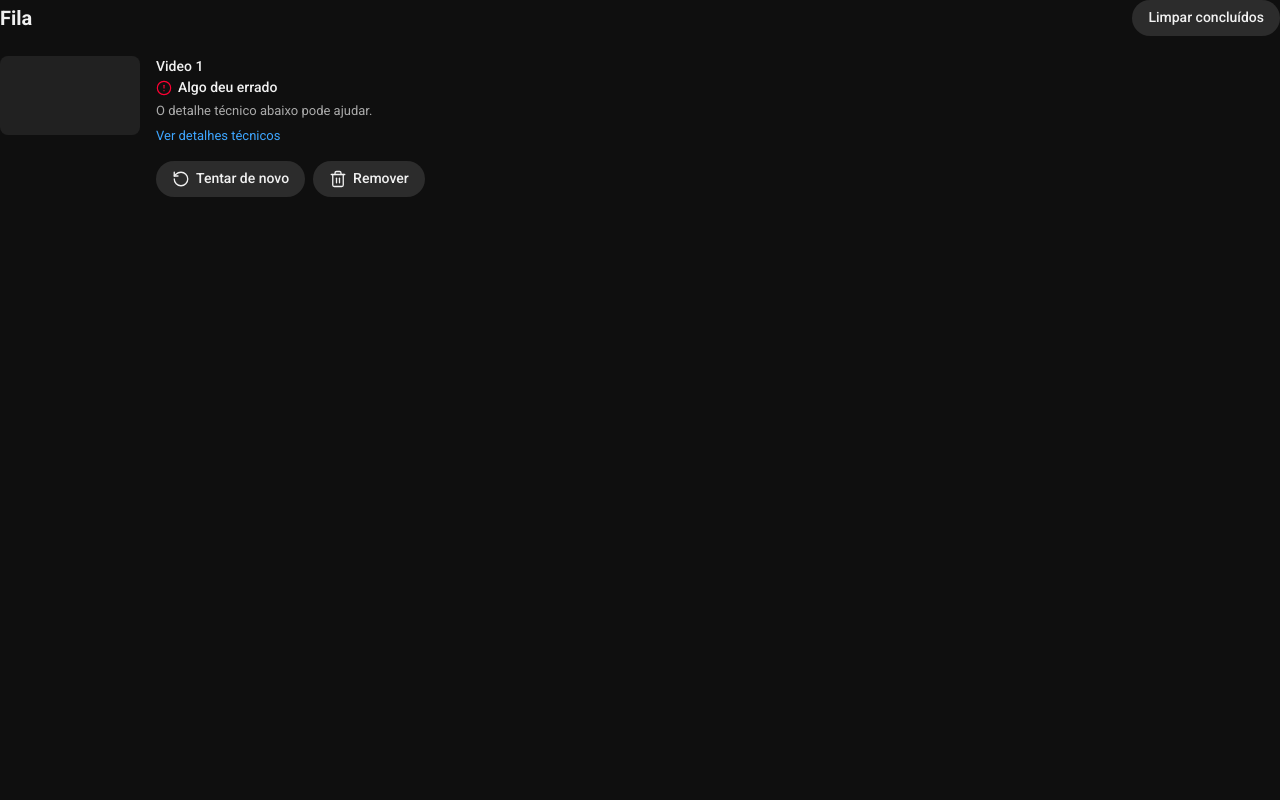
Test: technical details › "Copiar" writes exactly the masked text to the clipboard
The image size is (1280, 800).
Click the button "Ver detalhes técnicos" at (218, 136), box [156,127,280,145]
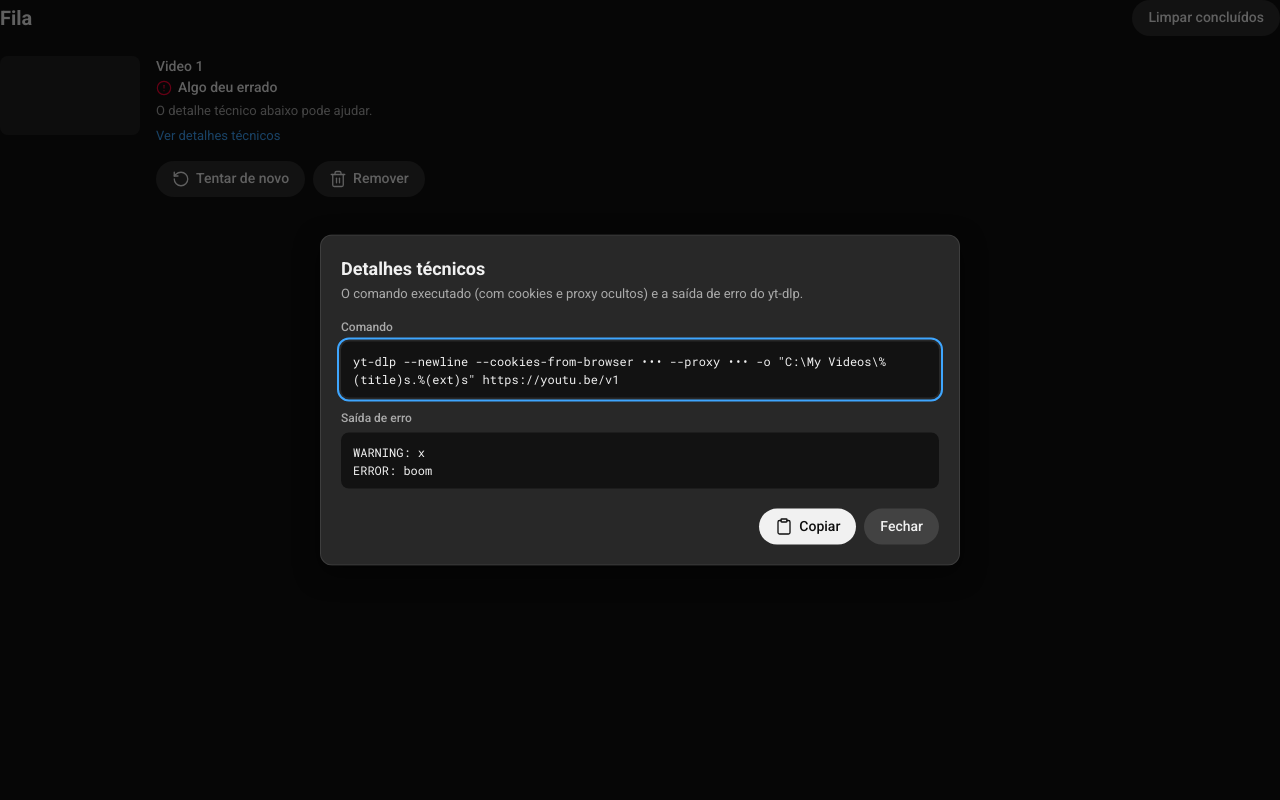
Click the button "Copiar" at (808, 526), box [759,508,856,544]
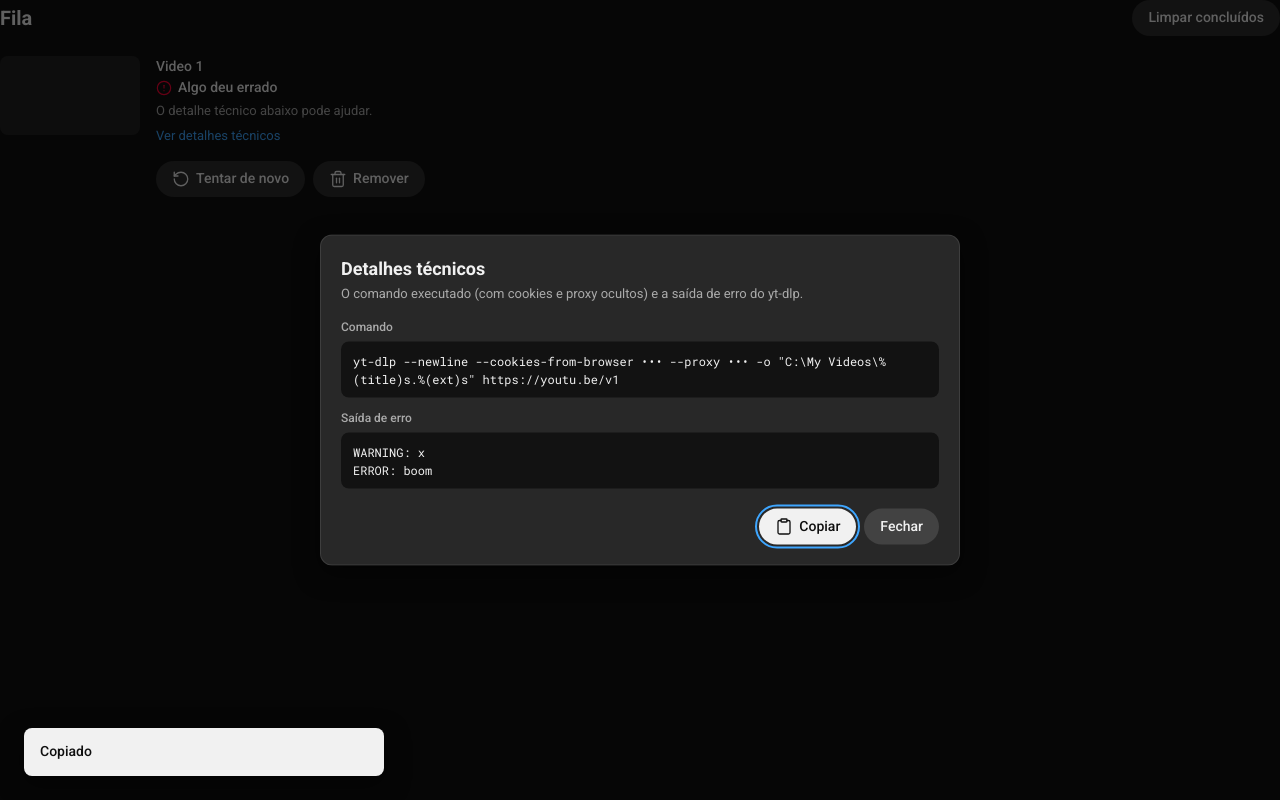
expect the text "Copiado" is shown: met, box [40,743,92,759]
